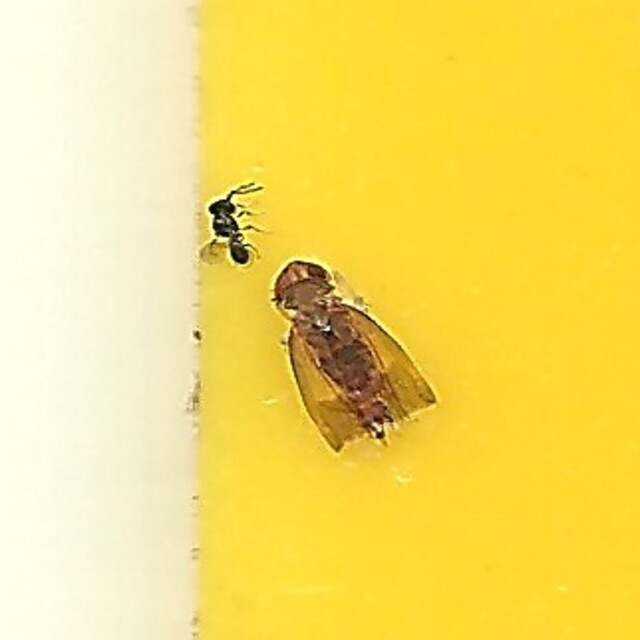Hemiptera: (272, 261, 441, 460)
Hymenoptera: (199, 180, 268, 268)
